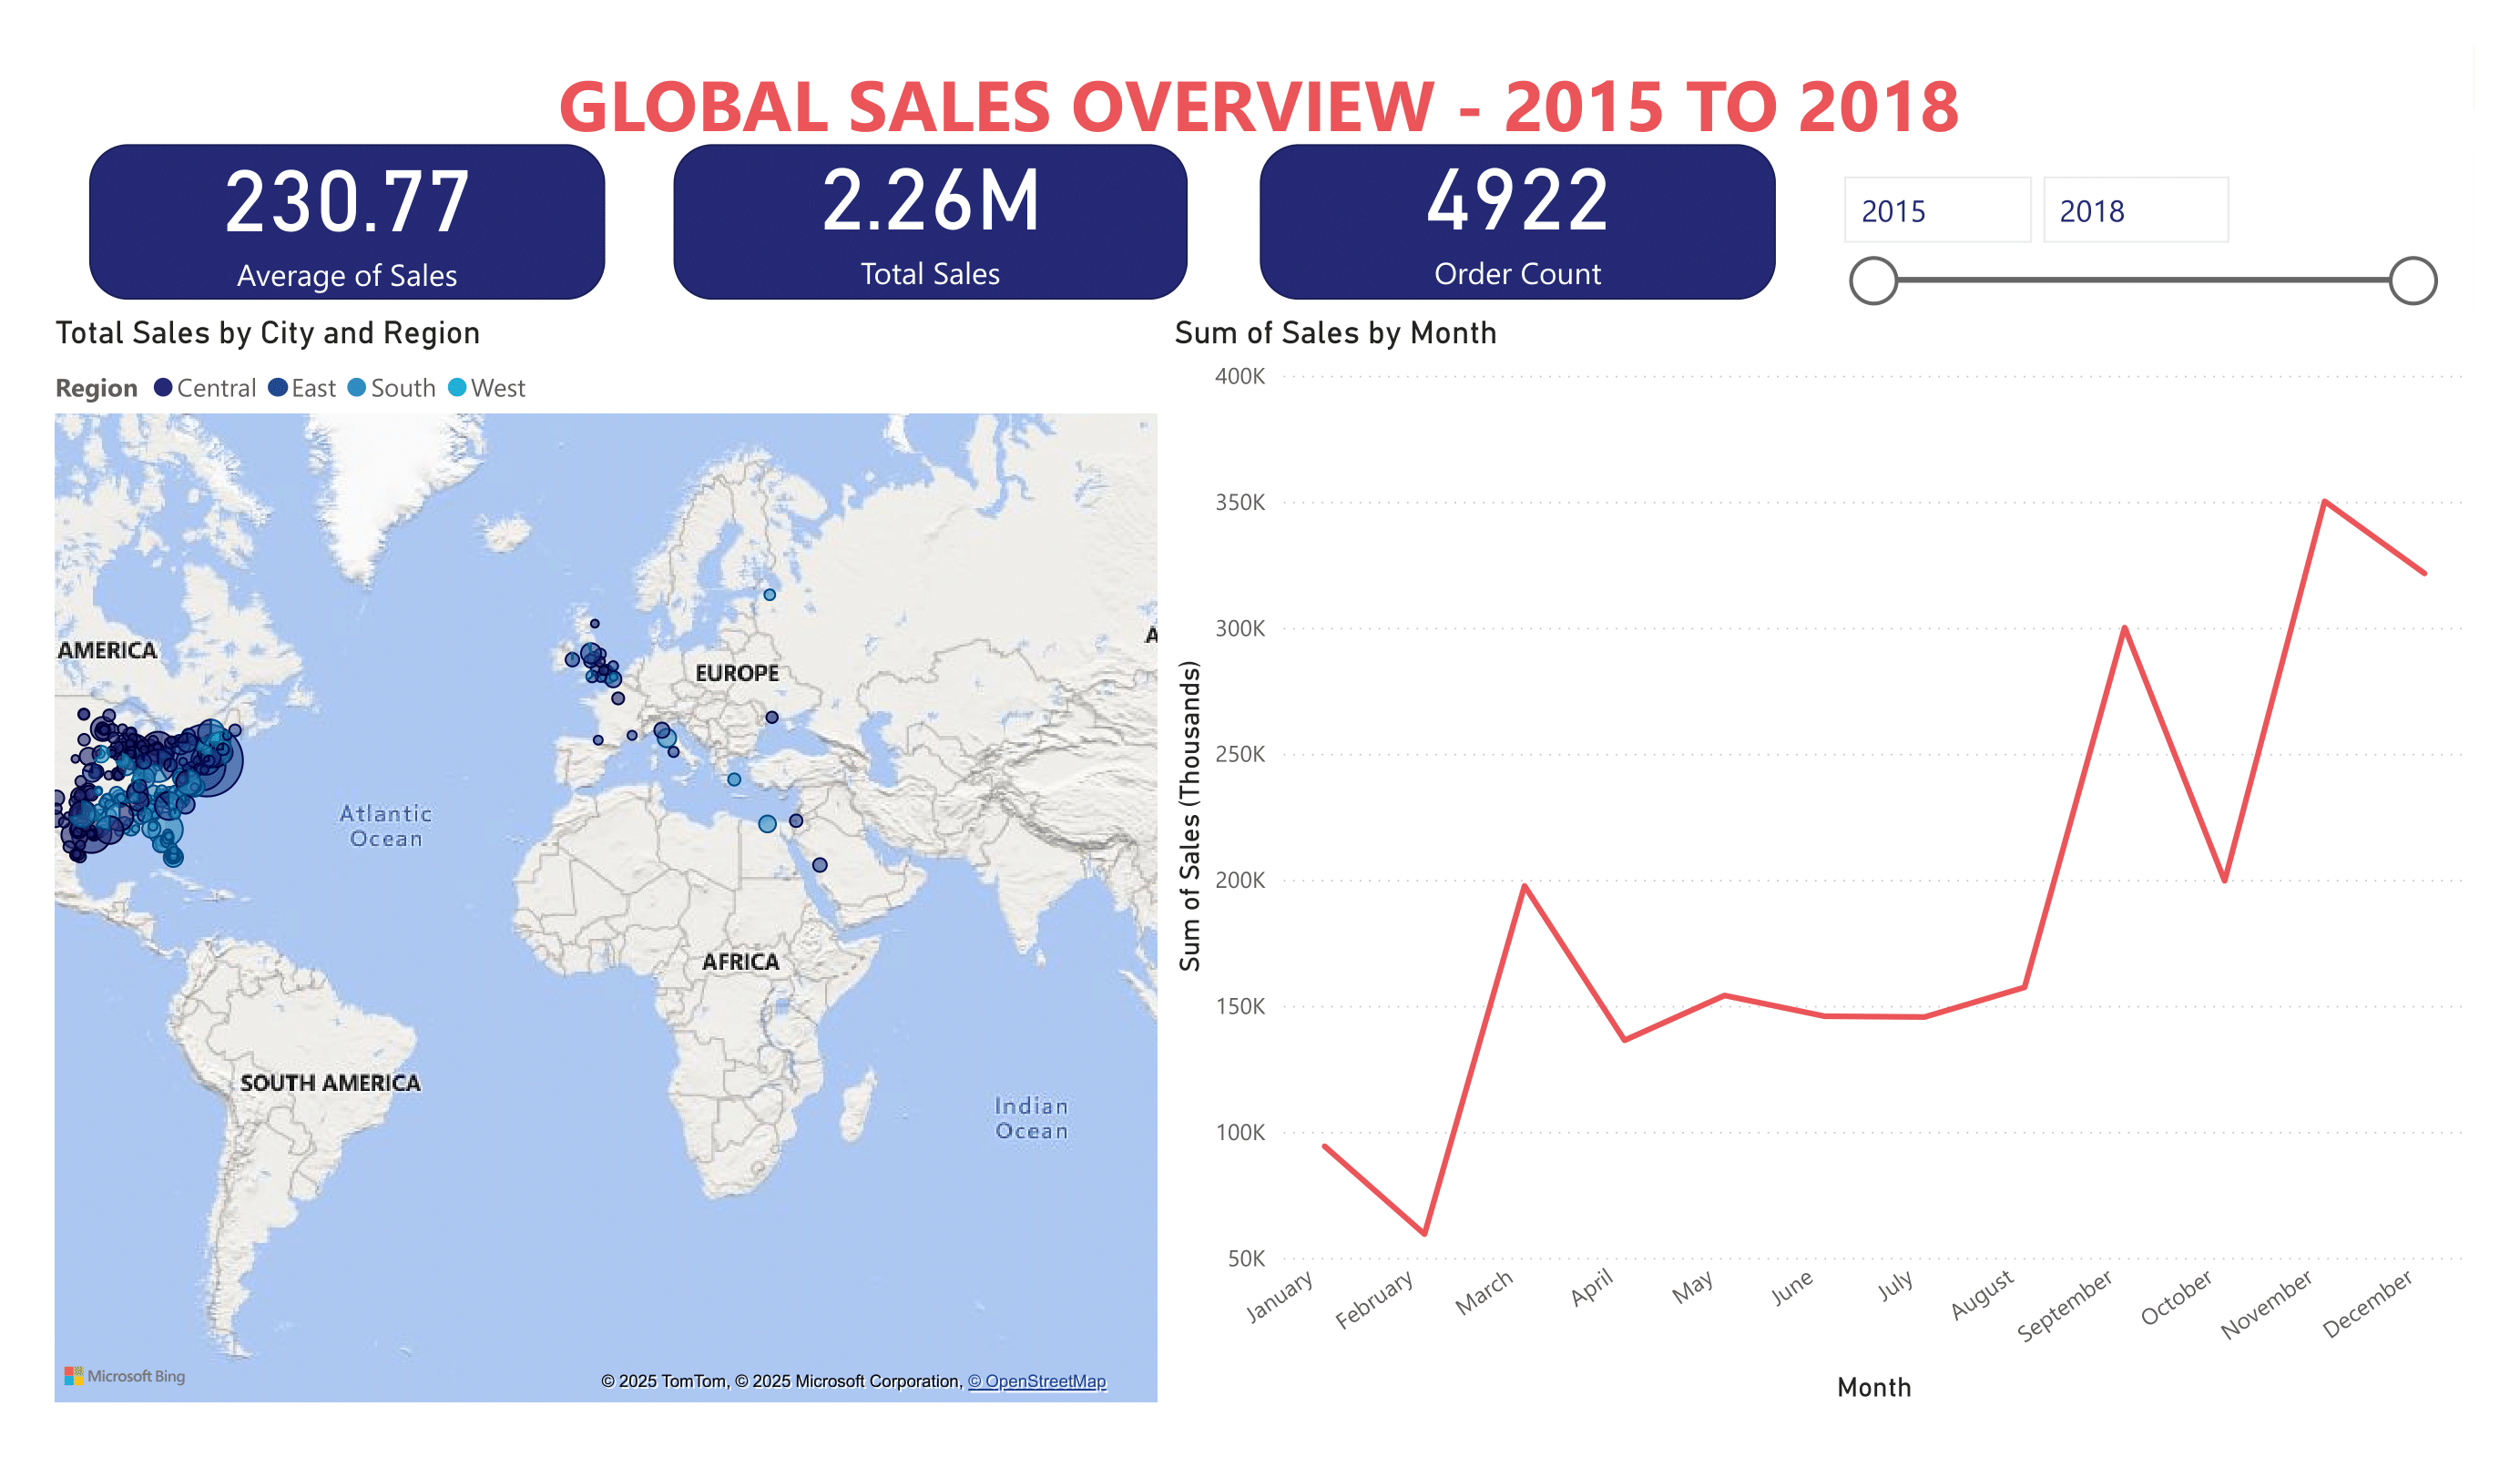

This screenshot's page, from the dashboard's own definition file:
{"tool":"powerbi","page":{"name":"Sales Overview","canvas":[1280,720],"ordinal":0},"visuals":[{"type":"lineChart","fields":{"Category":["sales_data.Order Date.Variation.Date Hierarchy.Month"],"Y":["Sum(sales_data.Sales)"]},"box":[589.9,141.2,690.1,579.2],"z":0},{"type":"map","fields":{"Series":["sales_data.Region"],"Size":["sales_data.Total Sales"],"Category":["sales_data.City"]},"box":[0,141.3,590.8,579.4],"z":1000},{"type":"slicer","title":"Year","fields":{"Values":["sales_data.Order Date.Variation.Date Hierarchy.Year"]},"box":[935,59,334.3,82.2],"z":4000},{"type":"textbox","box":[0,0,1280,59],"z":5000},{"type":"shape","box":[23.2,51.8,271.7,82.2],"z":6000},{"type":"shape","box":[640,51.8,271.7,82.2],"z":8000},{"type":"card","fields":{"Values":["Avg(sales_data.Sales)"]},"box":[5.4,37.5,307.5,96.5],"z":8500},{"type":"shape","box":[330.7,51.8,271.7,82.2],"z":9000},{"type":"card","fields":{"Values":["sales_data.Total Sales"]},"box":[312.8,37.5,307.5,96.5],"z":9500},{"type":"card","fields":{"Values":["sales_data.Order Count"]},"box":[622.1,37.5,307.5,96.5],"z":10000}]}

Visuals, with their boxes on the page's 1280x720 design canvas (x1, y1, x2, y2). These are canvas units, not pixel positions in the 2520x1457 screenshot, which may show the page scaled, cropped or inside an application window:
lineChart - sales_data.Order Date.Variation.Date Hierarchy.Month x Sum(sales_data.Sales): region(590, 141, 1280, 720)
map - sales_data.Region x sales_data.Total Sales: region(0, 141, 591, 721)
"Year" slicer: region(935, 59, 1269, 141)
textbox: region(0, 0, 1280, 59)
shape: region(23, 52, 295, 134)
shape: region(640, 52, 912, 134)
card - Avg(sales_data.Sales): region(5, 38, 313, 134)
shape: region(331, 52, 602, 134)
card - sales_data.Total Sales: region(313, 38, 620, 134)
card - sales_data.Order Count: region(622, 38, 930, 134)
